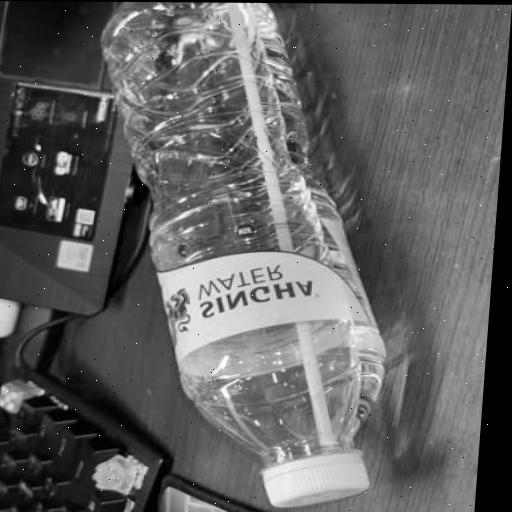ba: (52, 1, 432, 512)
